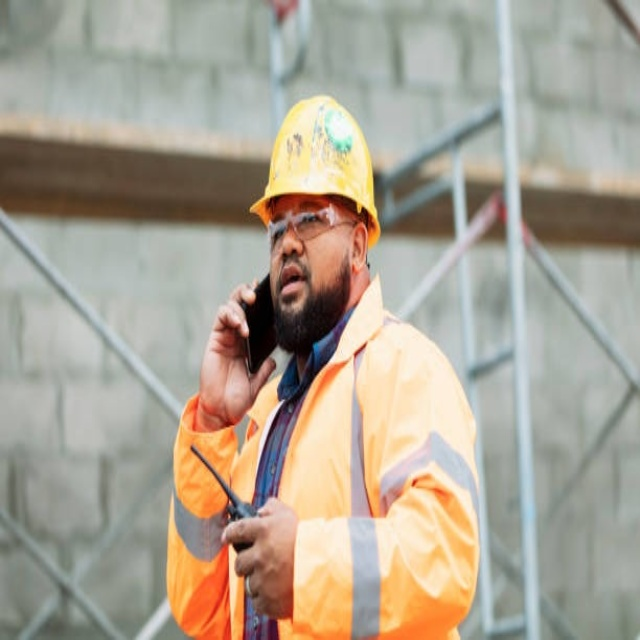Gafas: (266, 203, 361, 253)
Sin_guantes: (196, 272, 269, 420), (222, 497, 299, 622)
Sin_mascara: (276, 261, 315, 316)
